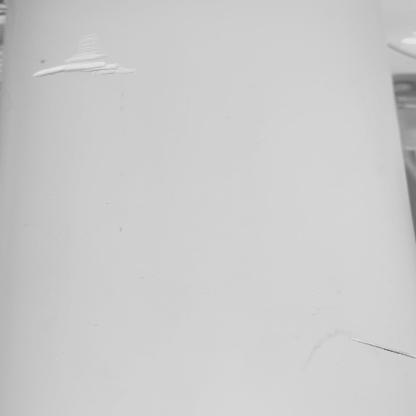fengxi: (349, 329, 415, 365)
sunshang: (27, 32, 136, 77)
